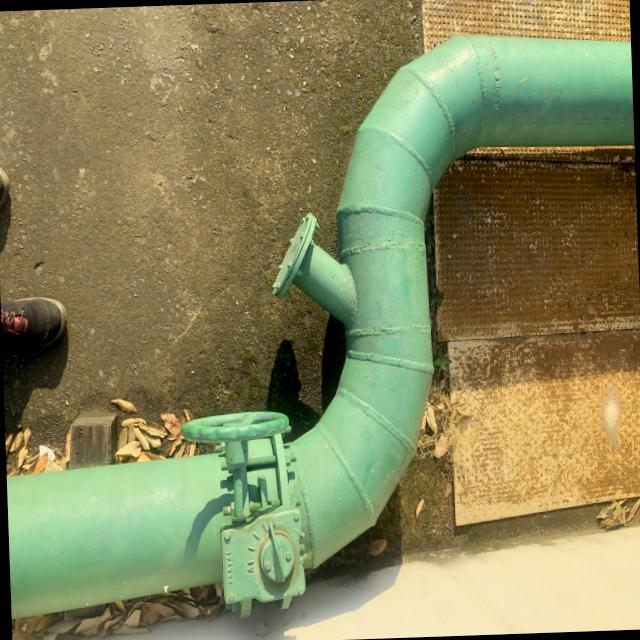gas: (5, 446, 430, 620), (339, 49, 439, 556), (344, 29, 634, 159)
